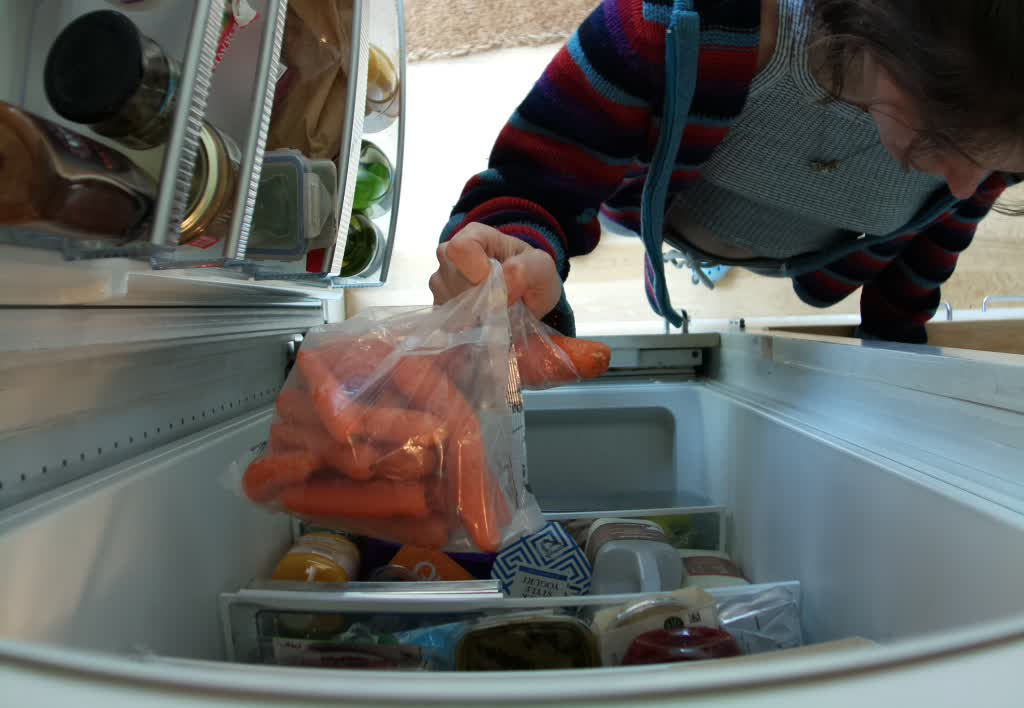carrot: (238, 329, 612, 554)
